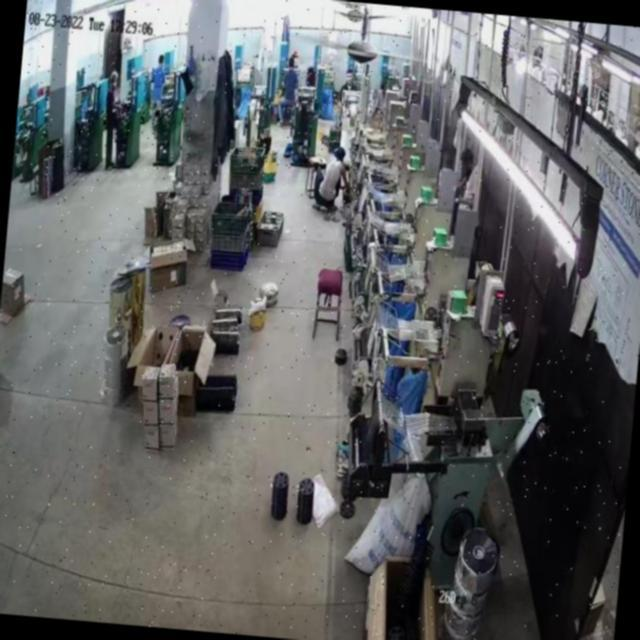person: (311, 146, 348, 218), (456, 142, 484, 218), (148, 48, 168, 106), (282, 56, 301, 104), (106, 65, 122, 114)
